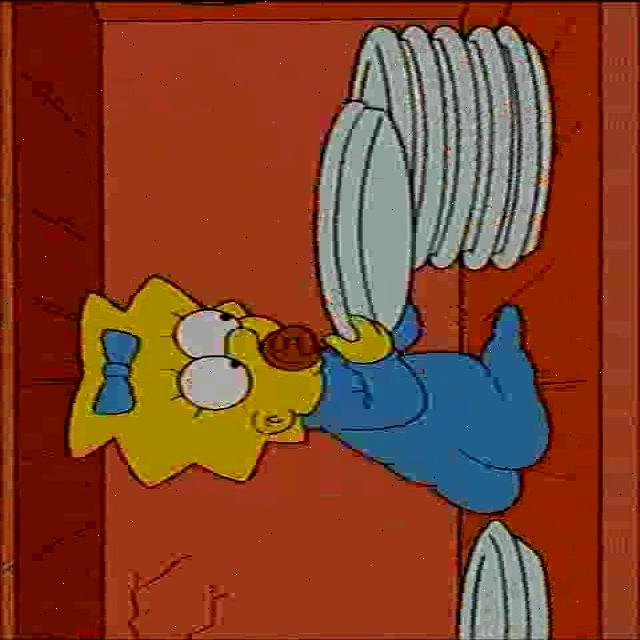Maggie Simpson: (66, 274, 328, 488)
